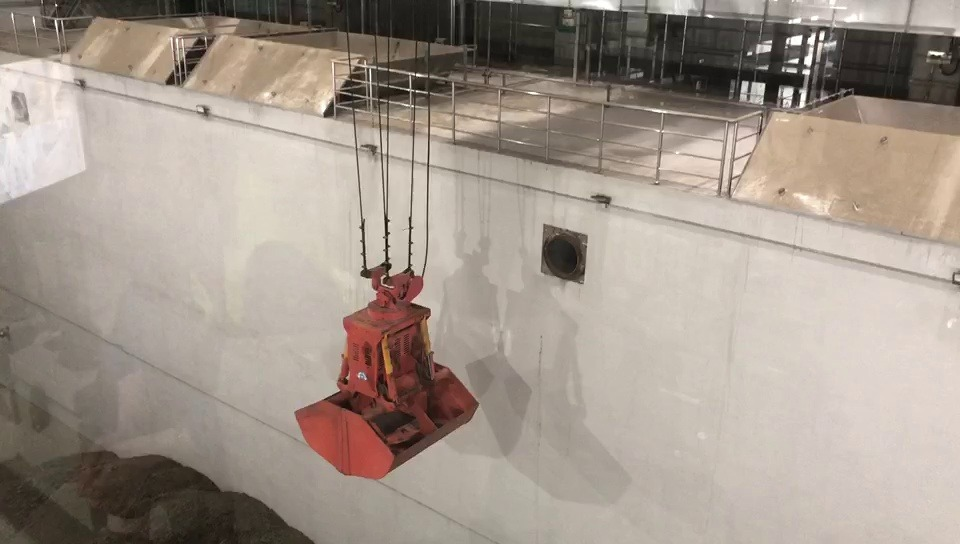grab: (292, 253, 485, 486)
